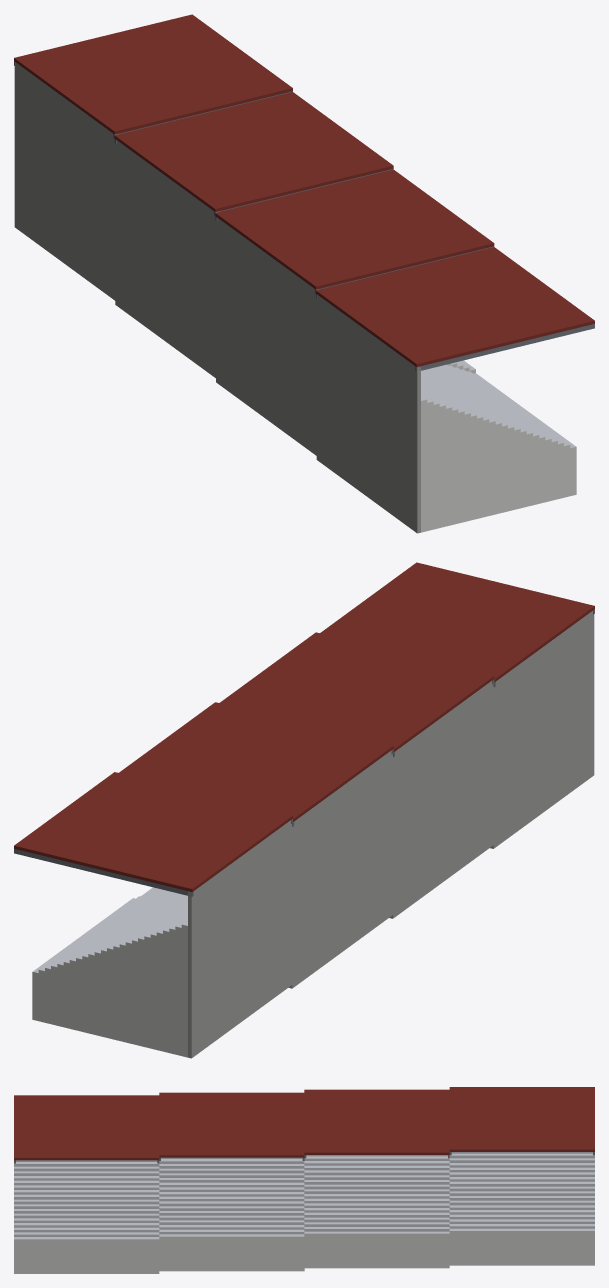
Rendered from stand_f1.glb.
3 views of the same model, one above another, from view 1: azimuth 30°, elevation 25°; view 2: azimuth 150°, elevation 25°; view 3: azimuth 270°, elevation 25° (orthographic). The views are drawn at different scales.
Visible parts, largest first — view 1: chunk_0_0; view 2: chunk_0_0; view 3: chunk_0_0.
Part boxes in pixels (box(x1,y1,x2,y2)): chunk_0_0: box(14, 14, 594, 533); chunk_0_0: box(14, 562, 594, 1058); chunk_0_0: box(14, 1087, 594, 1273).
Bounding box in the file's own units: 24.1 × 23.39 × 94.25.
